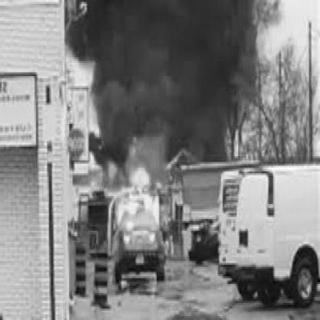Fire: (104, 121, 174, 235)
Smoke: (67, 0, 255, 123)
